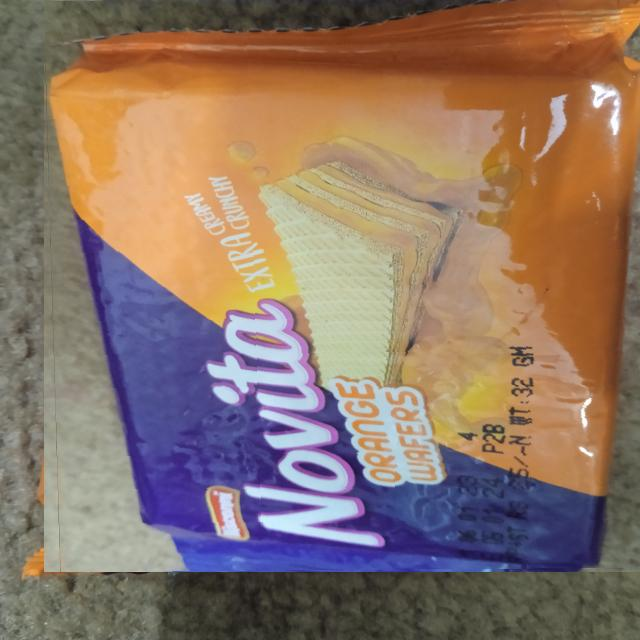Plastic: (43, 0, 640, 572)
